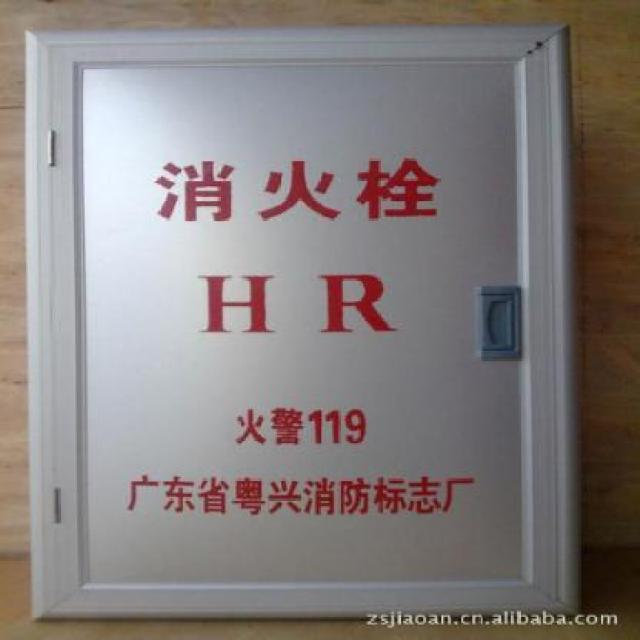firehydrant: (17, 17, 591, 622)
